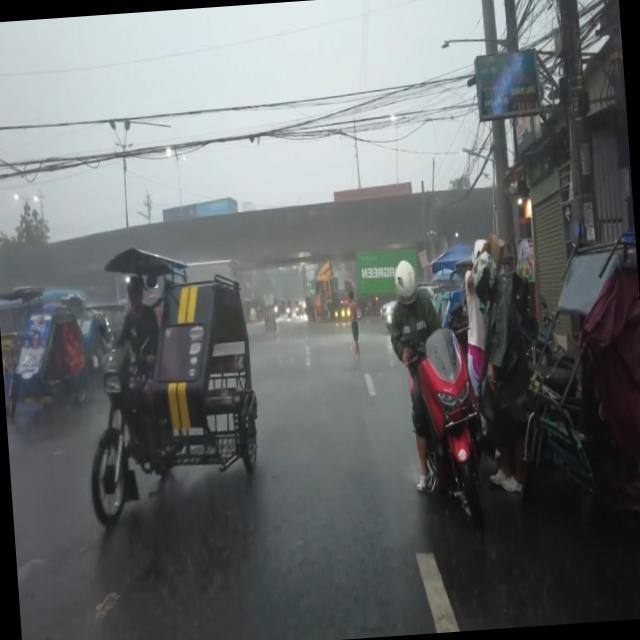full: (469, 249, 500, 309)
half: (392, 255, 419, 308)
